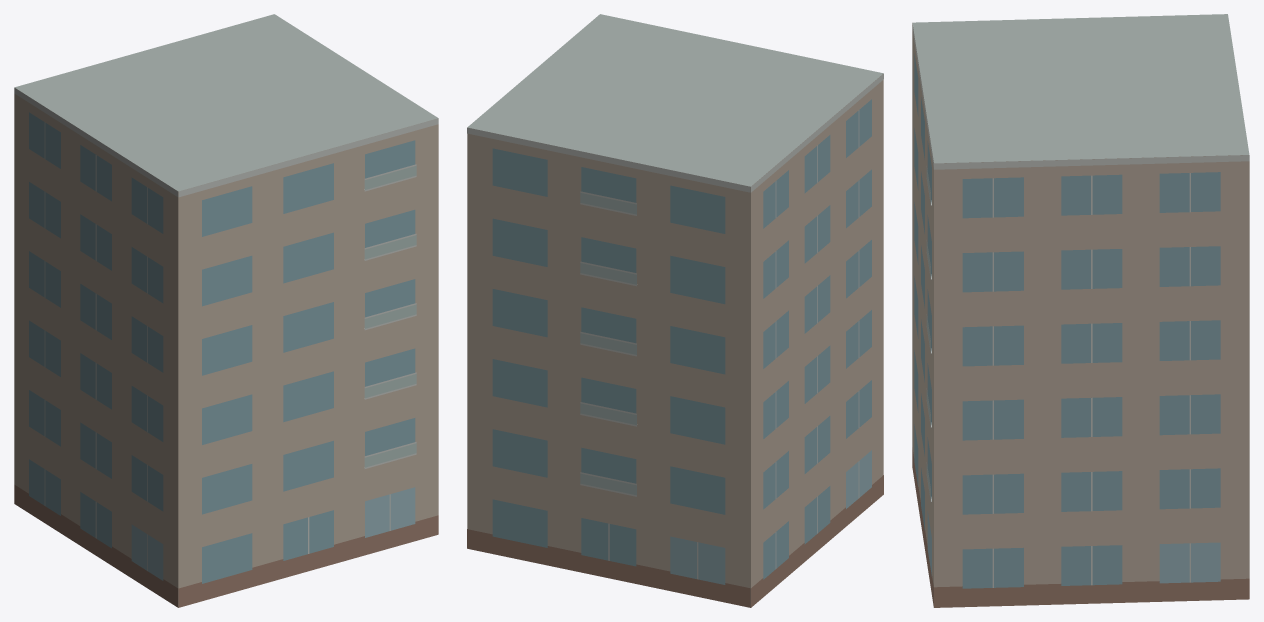
File: survey-upis-32636537.glb
3 renders of one model, left to right at view 1: azimuth 30°, elevation 25°; view 2: azimuth 150°, elevation 25°; view 3: azimuth 270°, elevation 25°, orthographic. The views are drawn at different scales.
Parts seen in each view (by area): view 1: survey-upis-32636537.tmp; view 2: survey-upis-32636537.tmp; view 3: survey-upis-32636537.tmp.
Part boxes in pixels (x1,y1,x2,y2): survey-upis-32636537.tmp: (14,14,438,607); survey-upis-32636537.tmp: (467,14,883,607); survey-upis-32636537.tmp: (912,14,1249,607).
Size of the model in its own units: 12.26 by 17 by 11.69.
